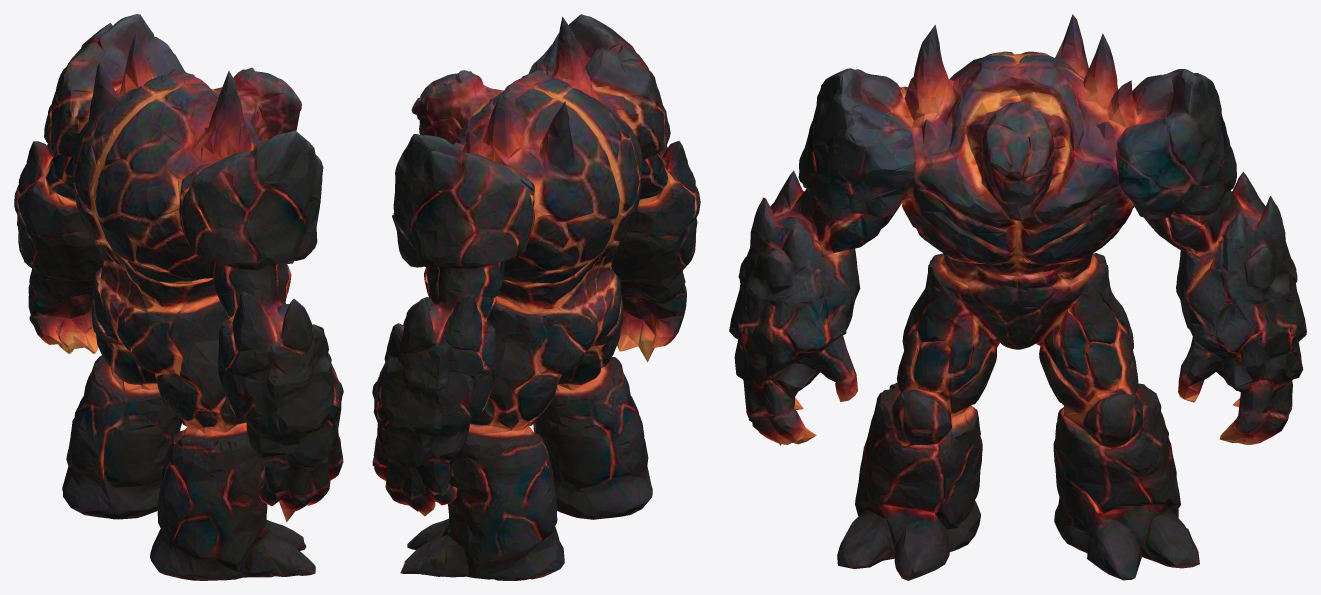
Rendered from boss6.glb.
The picture shows the model from 3 angles, left to right: view 1: azimuth 30°, elevation 25°; view 2: azimuth 150°, elevation 25°; view 3: azimuth 270°, elevation 25°; orthographic projection. The views are drawn at different scales.
Visible parts, largest first — view 1: tripo_node_cc3fac07_tripo_mat_cc3fac07_0; view 2: tripo_node_cc3fac07_tripo_mat_cc3fac07_0; view 3: tripo_node_cc3fac07_tripo_mat_cc3fac07_0.
Boxes of the visible parts, left/top/right/bottom form: tripo_node_cc3fac07_tripo_mat_cc3fac07_0: left=14, top=14, right=343, bottom=580; tripo_node_cc3fac07_tripo_mat_cc3fac07_0: left=372, top=14, right=700, bottom=580; tripo_node_cc3fac07_tripo_mat_cc3fac07_0: left=729, top=14, right=1306, bottom=580.
Bounding box in the file's own units: 0.4451 × 0.9974 × 0.9996.
Materials: 1 (1 with a texture image).
